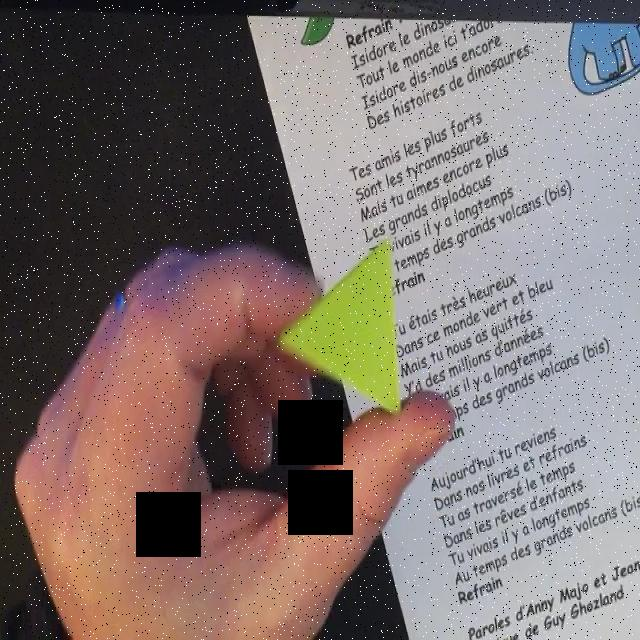triangle: (276, 235, 402, 420)
